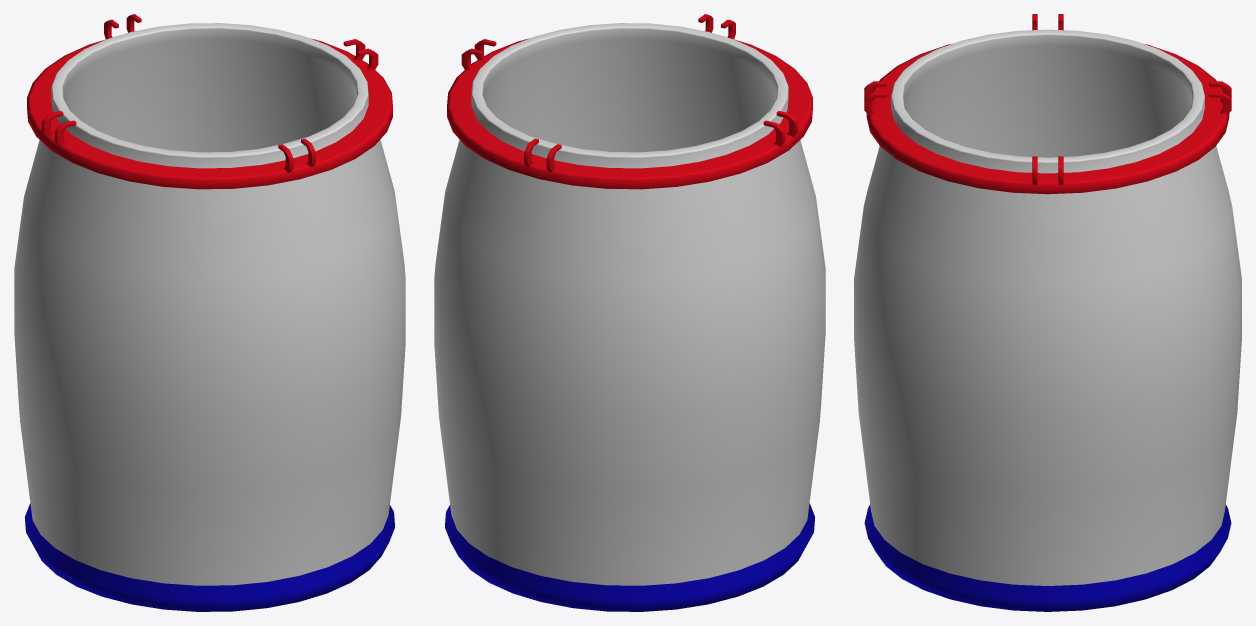
File: BarrelOpen.fbx
3 renders of one model, left to right at view 1: azimuth 30°, elevation 25°; view 2: azimuth 150°, elevation 25°; view 3: azimuth 270°, elevation 25°, orthographic.
Visible parts, largest first — view 1: BarrelOpen; view 2: BarrelOpen; view 3: BarrelOpen.
Boxes of the visible parts, box(x1,y1,x2,y2) form: BarrelOpen: box(14, 14, 405, 611); BarrelOpen: box(434, 14, 825, 611); BarrelOpen: box(854, 14, 1241, 611).
Bounding box in the file's own units: 60 × 76.95 × 60.
